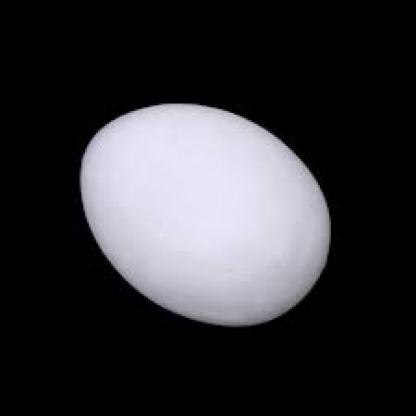egg: (79, 102, 332, 326)
